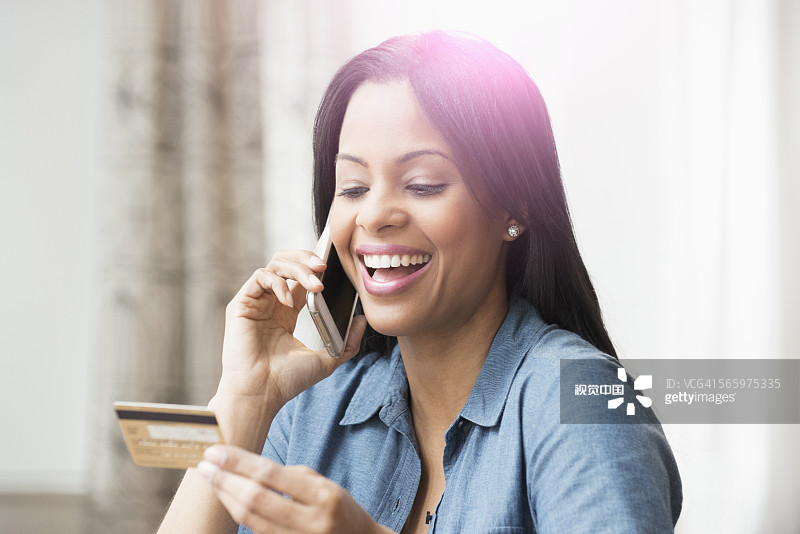calling: (198, 194, 376, 419)
no-phone: (97, 393, 389, 534)
